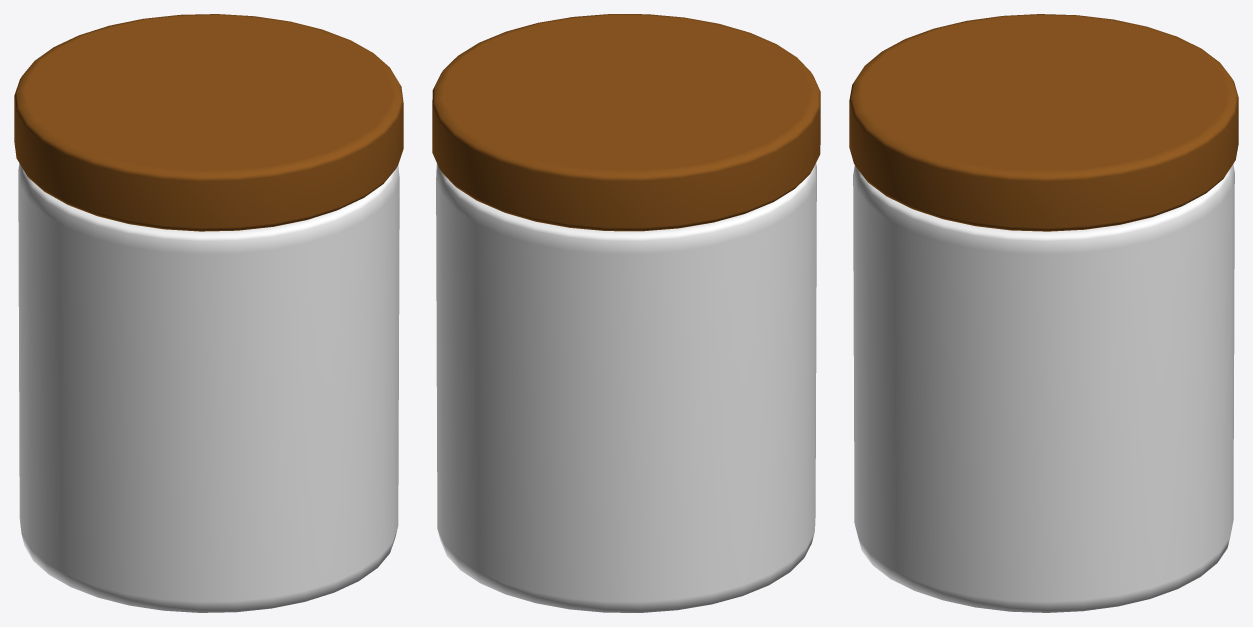
The model's file is SM_jar_empty.fbx.
3 renders of one model, left to right at view 1: azimuth 30°, elevation 25°; view 2: azimuth 150°, elevation 25°; view 3: azimuth 270°, elevation 25°, orthographic.
Parts seen in each view (by area): view 1: SM_jar_empty; view 2: SM_jar_empty; view 3: SM_jar_empty.
Boxes of the visible parts, <box> form: SM_jar_empty: <box>14,14,403,612</box>; SM_jar_empty: <box>432,14,820,612</box>; SM_jar_empty: <box>849,14,1238,612</box>.
Size of the model in its own units: 16.89 by 21.27 by 16.89.
Materials: 2 (2 with a texture image).
